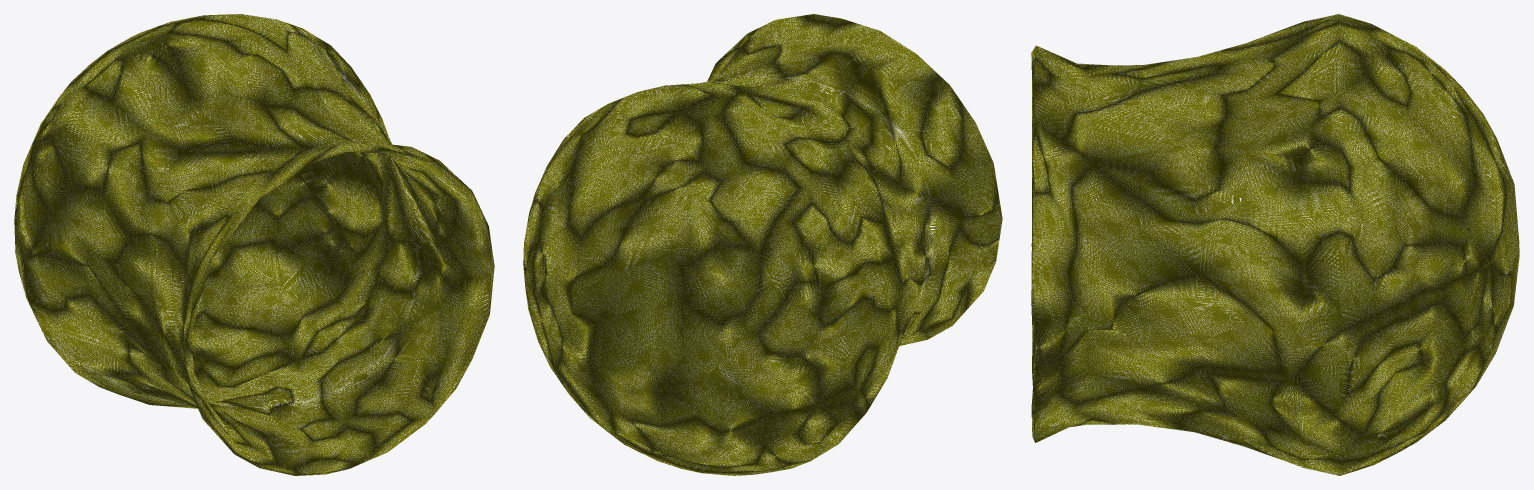
Rendered from model_align.obj.
The picture shows the model from 3 angles, left to right: view 1: azimuth 30°, elevation 25°; view 2: azimuth 150°, elevation 25°; view 3: azimuth 270°, elevation 25°; orthographic projection. The views are drawn at different scales.
Size of the model in its own units: 0.1654 by 0.1655 by 0.1751.
